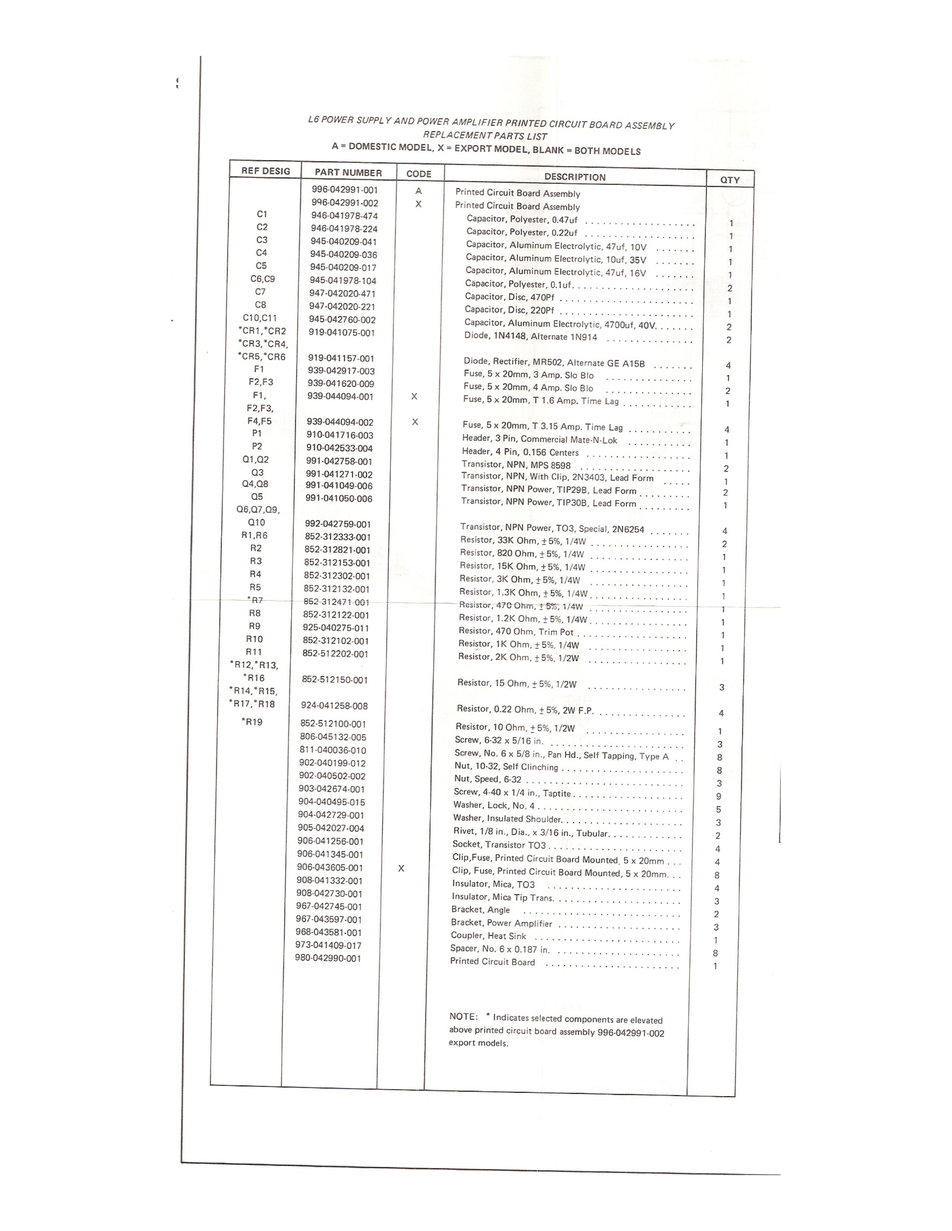C1: (257, 207, 268, 220)
C10: (243, 313, 259, 322)
C11: (261, 313, 277, 322)
C2: (256, 222, 268, 231)
C3: (255, 235, 269, 245)
C4: (255, 248, 268, 257)
C5: (255, 260, 267, 270)
C6: (250, 273, 262, 283)
C7: (255, 287, 267, 296)
C8: (254, 300, 267, 310)
C9: (264, 274, 275, 283)
CR10: (242, 325, 259, 335)
CR2: (268, 326, 286, 336)
CR3: (242, 339, 261, 347)
CR4: (267, 339, 286, 349)
CR5: (242, 352, 260, 360)
CR6: (267, 353, 286, 361)
F1: (254, 364, 264, 373), (253, 391, 263, 399)
F20: (248, 377, 259, 386), (246, 404, 257, 412)
F33: (260, 403, 272, 413), (262, 377, 274, 386)
F4: (247, 416, 258, 425)
F5: (261, 417, 272, 425)
P1: (252, 428, 262, 438)
P2: (252, 442, 263, 450)
Q1: (242, 454, 253, 464)
Q10: (248, 518, 266, 526)
Q2: (256, 455, 269, 464)
Q3_4: (252, 467, 264, 477)
Q4: (241, 479, 254, 488)
Q5: (251, 491, 263, 501)
Q6: (236, 504, 248, 513)
Q7: (251, 505, 262, 513)
Q8: (256, 479, 269, 489)
Q9: (265, 504, 277, 513)
R1: (241, 530, 253, 539)
R10: (246, 635, 263, 644)
R11: (246, 647, 262, 656)
R12: (234, 660, 251, 669)
R13: (259, 661, 276, 670)
R14: (234, 687, 250, 694)
R15: (258, 687, 275, 695)
R16: (247, 673, 265, 683)
R17: (233, 699, 250, 708)
R18: (258, 700, 275, 708)
R19: (246, 718, 263, 726)
R2: (250, 544, 263, 552)
R3: (250, 556, 262, 566)
R4: (249, 569, 262, 579)
R5: (250, 583, 261, 591)
R6: (256, 531, 268, 540)
R7: (251, 596, 263, 604)
R8: (249, 609, 262, 617)
R9: (248, 621, 261, 630)
